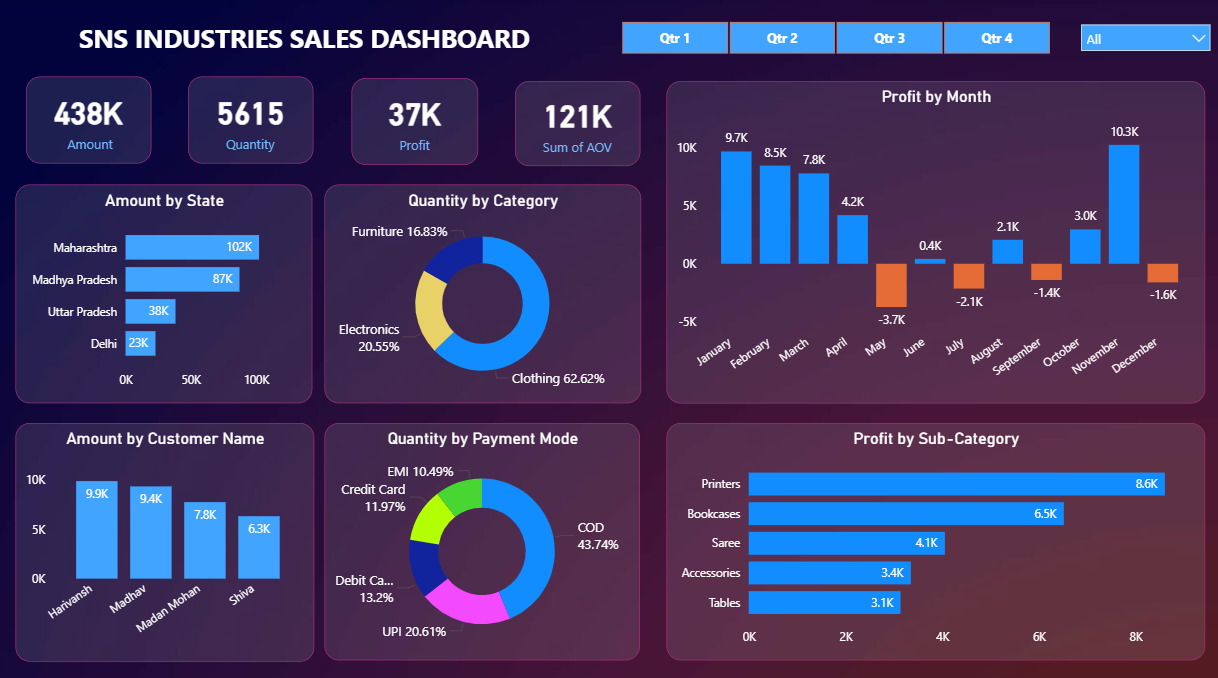

The dashboard page shown, as its layout file describes it:
{"tool":"powerbi","page":{"name":"Page 1","canvas":[1280,720],"ordinal":0},"visuals":[{"type":"textbox","box":[11.3,18.9,618,54.8],"z":0},{"type":"columnChart","title":"Profit by Month","fields":{"Y":["Sum(Details.Profit)"],"Category":["Orders.Order Date.Variation.Date Hierarchy.Month"]},"box":[701.8,87.5,561.1,336],"z":1000},{"type":"barChart","title":"Profit by Sub-Category","fields":{"Category":["Details.Sub-Category"],"Y":["Sum(Details.Profit)"]},"box":[701.1,444.1,561.3,247.6],"z":2000},{"type":"donutChart","title":"Quantity by Category","fields":{"Category":["Details.Category"],"Y":["Sum(Details.Quantity)"]},"box":[345.4,195.4,329.8,228.2],"z":3000},{"type":"donutChart","title":"Quantity by Payment Mode","fields":{"Y":["Sum(Details.Quantity)"],"Category":["Details.PaymentMode"]},"box":[345.8,444.1,328.8,247.6],"z":4000},{"type":"card","fields":{"Values":["Sum(Details.Amount)"]},"box":[34,83.2,130.4,90.7],"z":5000},{"type":"card","fields":{"Values":["Sum(Details.Quantity)"]},"box":[203.5,83.2,130.4,90.7],"z":6000},{"type":"card","fields":{"Values":["Sum(Details.Profit)"]},"box":[372.9,85,132.3,90.7],"z":7000},{"type":"card","fields":{"Values":["Sum(Details.AOV)"]},"box":[544.3,86.9,130.4,88.8],"z":8000},{"type":"barChart","title":"Amount by State","fields":{"Category":["Orders.State"],"Y":["Sum(Details.Amount)"]},"box":[23.4,195.4,309.5,228.2],"z":9000},{"type":"columnChart","title":"Amount by Customer Name","fields":{"Category":["Orders.CustomerName"],"Y":["Sum(Details.Amount)"]},"box":[23.4,443.9,311,248.5],"z":10000},{"type":"slicer","fields":{"Values":["Orders.Order Date.Variation.Date Hierarchy.Quarter"]},"box":[629.3,18.9,495.1,47.2],"z":11000},{"type":"slicer","fields":{"Values":["Orders.State"]},"box":[1124.4,18.9,155,52.9],"z":12000}]}

Visuals, with their boxes in screenshot pixels (x1, y1, x2, y2), scaled from the page's 1280x720 canvas onto the 1218x678 screenshot:
textbox: 11/18/599/69
"Profit by Month" columnChart: 668/82/1202/399
"Profit by Sub-Category" barChart: 667/418/1201/651
"Quantity by Category" donutChart: 329/184/642/399
"Quantity by Payment Mode" donutChart: 329/418/642/651
card - Sum(Details.Amount): 32/78/156/164
card - Sum(Details.Quantity): 194/78/318/164
card - Sum(Details.Profit): 355/80/481/165
card - Sum(Details.AOV): 518/82/642/165
"Amount by State" barChart: 22/184/317/399
"Amount by Customer Name" columnChart: 22/418/318/652
slicer - Orders.Order Date.Variation.Date Hierarchy.Quarter: 599/18/1070/62
slicer - Orders.State: 1070/18/1217/68
